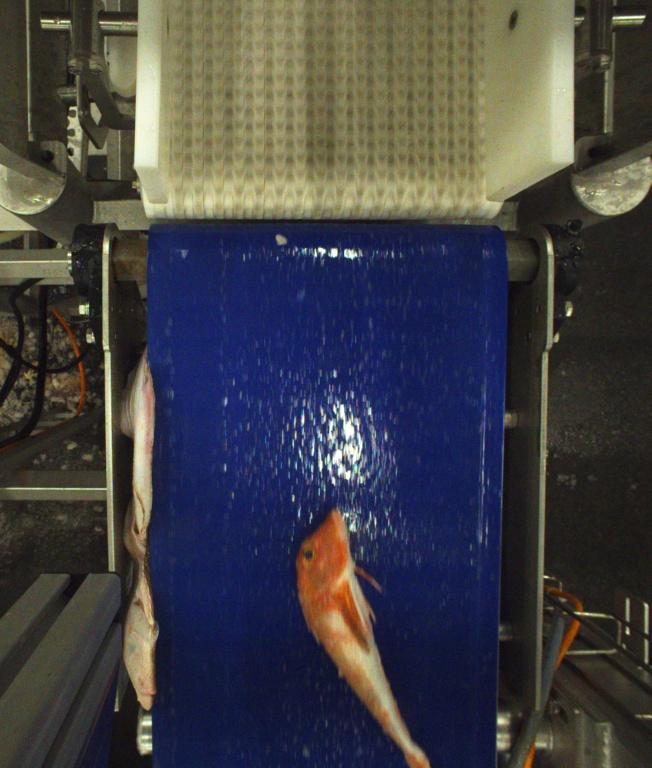GUU: (299, 507, 432, 768)
